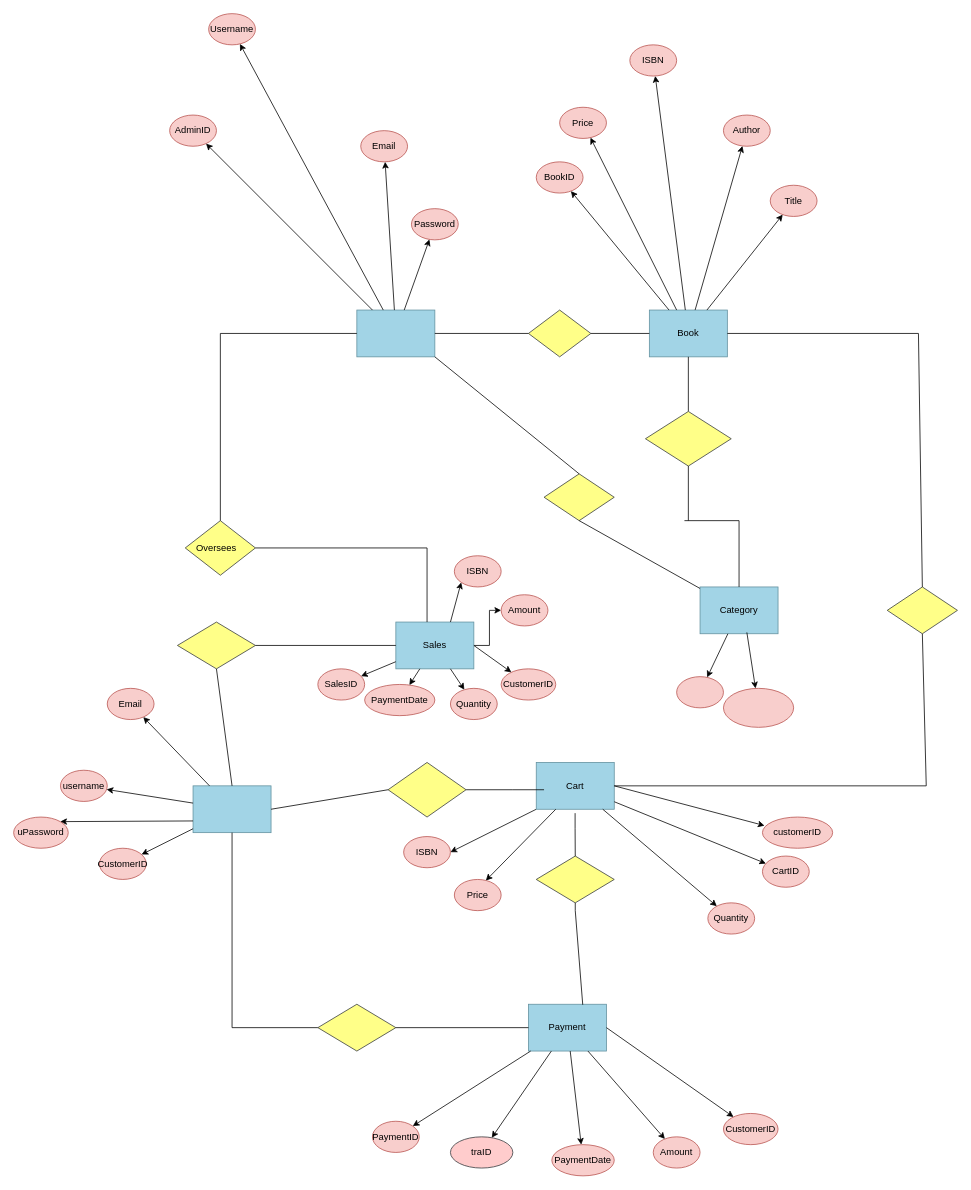
This 971x1190 diagram has some shape labels left out. Each missing label, with the centre of its shape:
Added to: point 921,610
Admin: point 395,333
Belongs to: point 688,438
CategoryID: point 699,692
CategoryName: point 758,707
Customer: point 231,809
Made By: point 216,645
Maintains: point 578,497
Makes: point 356,1027
Manages: point 559,333
Owns: point 426,789
Paid by: point 574,879
